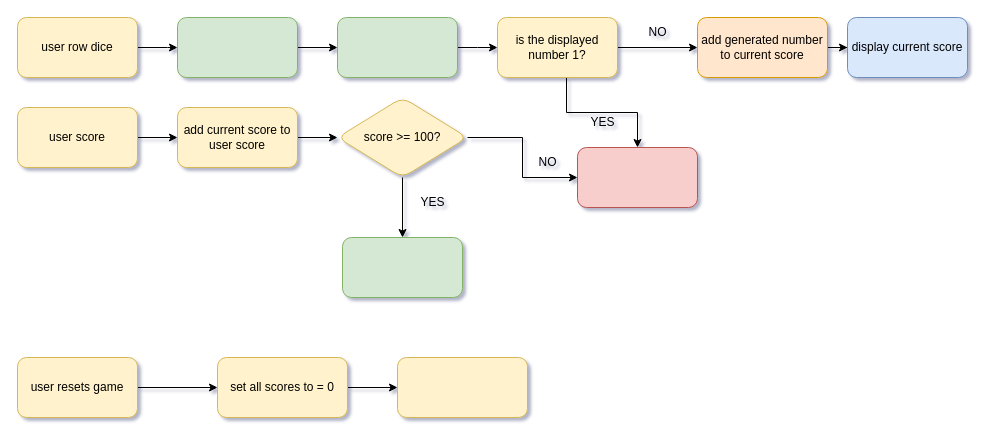
Image size: 991x441. Some labels were removed from this diagram. Each missing label, with the centre of its shape:
display generated number: pixel 397 47
generate random dice number: pixel 237 47
set user 1 to start: pixel 462 387
switch players: pixel 637 177
user wins: pixel 402 267
